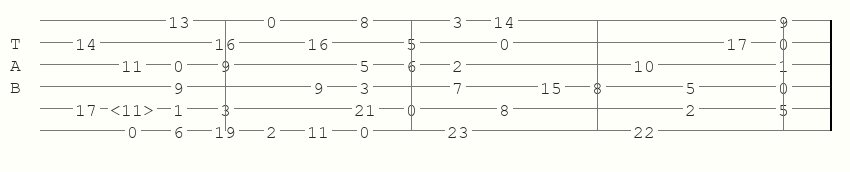0: (127, 123, 142, 138), (173, 57, 188, 72), (266, 13, 281, 28), (359, 123, 374, 138), (406, 101, 421, 116), (499, 35, 514, 50), (778, 79, 793, 94), (778, 35, 793, 50)
1: (173, 101, 188, 116), (778, 57, 793, 72)
10: (633, 57, 659, 72)
11: (121, 57, 147, 72), (307, 123, 333, 138)
13: (168, 13, 194, 28)
14: (75, 35, 101, 50), (493, 13, 519, 28)
15: (540, 79, 566, 94)
16: (214, 35, 240, 50), (307, 35, 333, 50)
17: (75, 101, 101, 116), (726, 35, 752, 50)
19: (214, 123, 240, 138)
2: (266, 123, 281, 138), (452, 57, 467, 72), (685, 101, 700, 116)
21: (354, 101, 380, 116)
22: (633, 123, 659, 138)
23: (447, 123, 473, 138)
3: (220, 101, 235, 116), (359, 79, 374, 94), (452, 13, 467, 28)
5: (359, 57, 374, 72), (406, 35, 421, 50), (685, 79, 700, 94), (778, 101, 793, 116)
6: (173, 123, 188, 138), (406, 57, 421, 72)
7: (452, 79, 467, 94)
8: (359, 13, 374, 28), (499, 101, 514, 116), (592, 79, 607, 94)
9: (173, 79, 188, 94), (220, 57, 235, 72), (313, 79, 328, 94), (778, 13, 793, 28)
harmonic: (110, 101, 158, 116)
